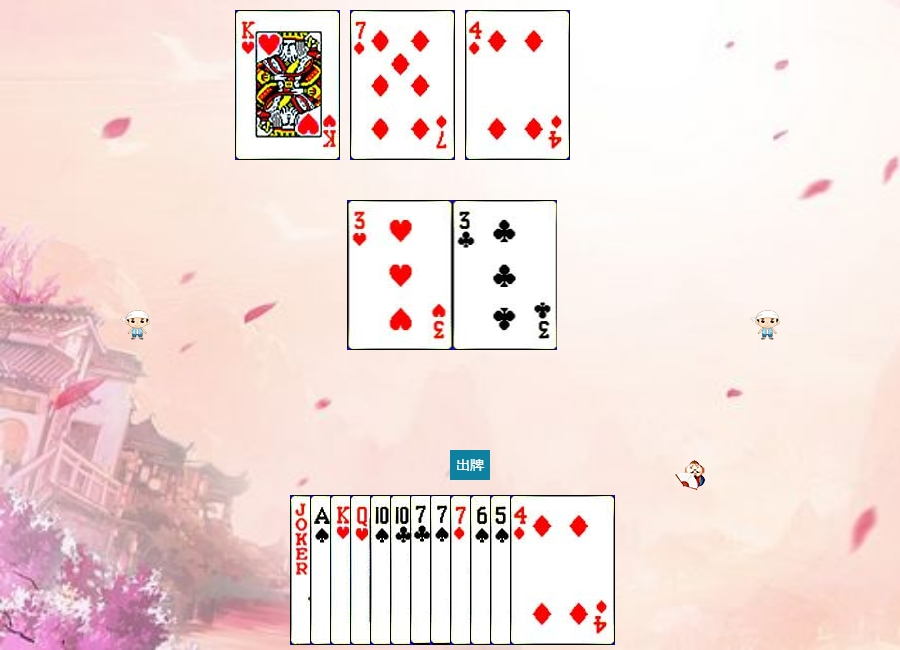10~2: (390, 495, 495, 645)
10~4: (370, 495, 475, 645)
12~3: (350, 495, 455, 645)
13~3: (235, 10, 340, 160), (330, 495, 435, 645)
14~4: (310, 495, 415, 645)
18~4: (290, 495, 395, 645)
3~2: (453, 200, 558, 350)
3~3: (348, 200, 453, 350)
4~1: (465, 10, 570, 160), (510, 495, 615, 645)
5~4: (490, 495, 595, 645)
6~4: (470, 495, 575, 645)
7~1: (350, 10, 455, 160), (450, 495, 555, 645)
7~2: (410, 495, 515, 645)
7~4: (430, 495, 535, 645)
